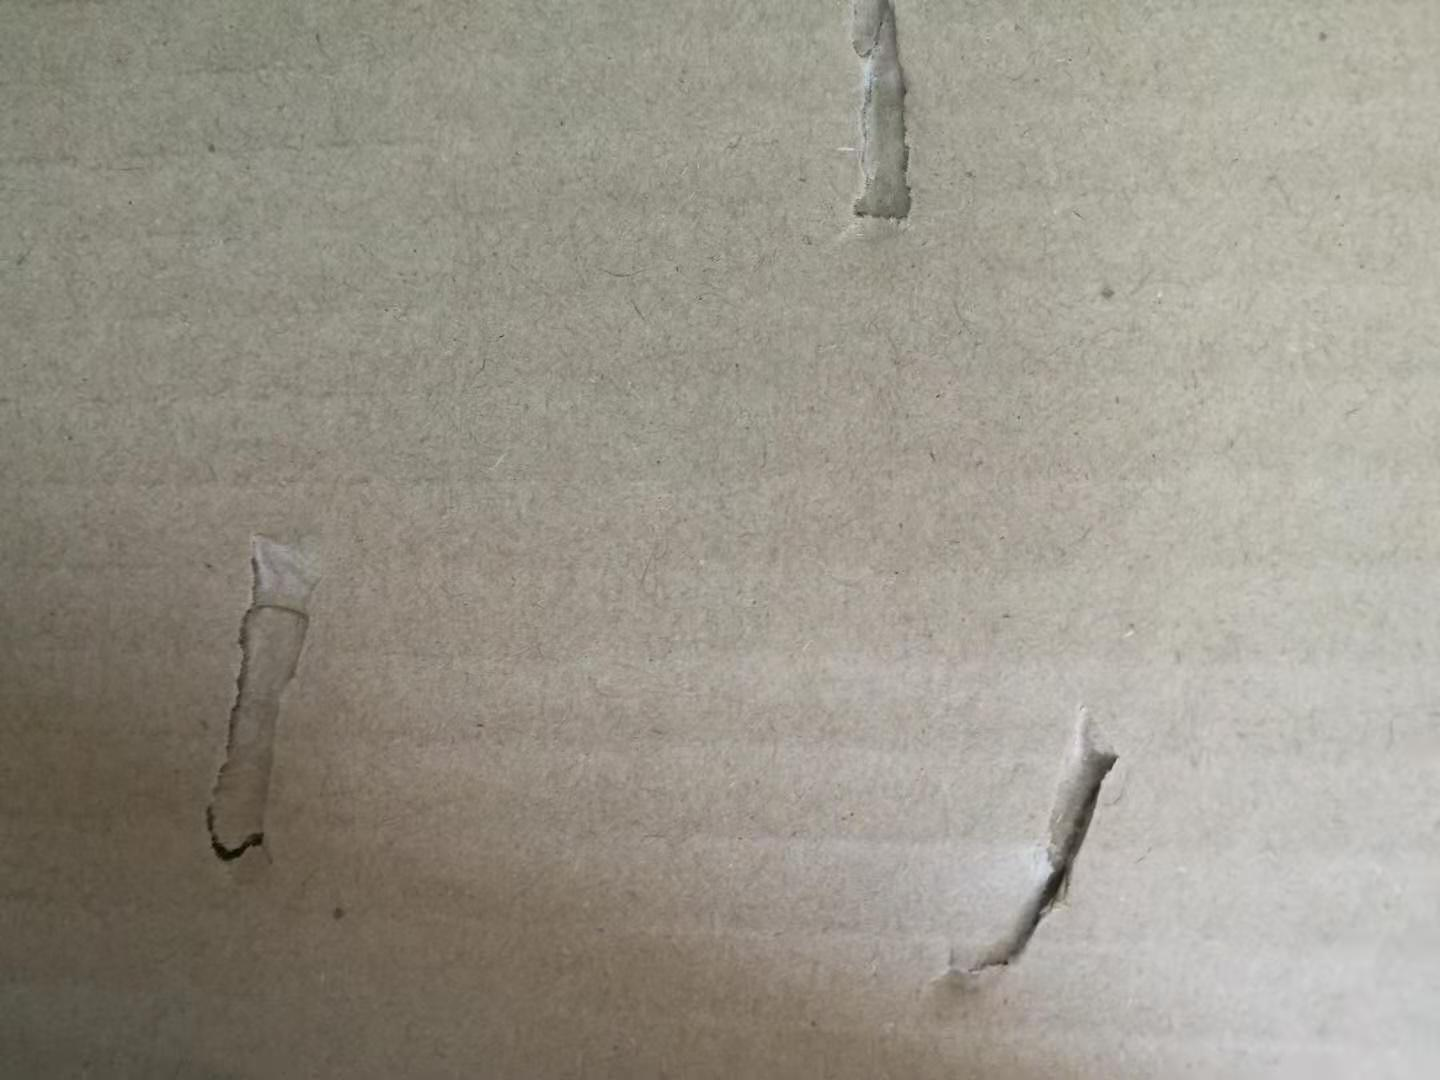defect: (895, 661, 1164, 1033), (137, 500, 370, 902), (794, 1, 966, 271)
